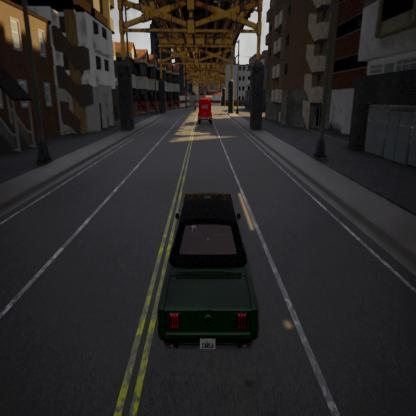Cars: (162, 192, 261, 354), (198, 96, 212, 127)
